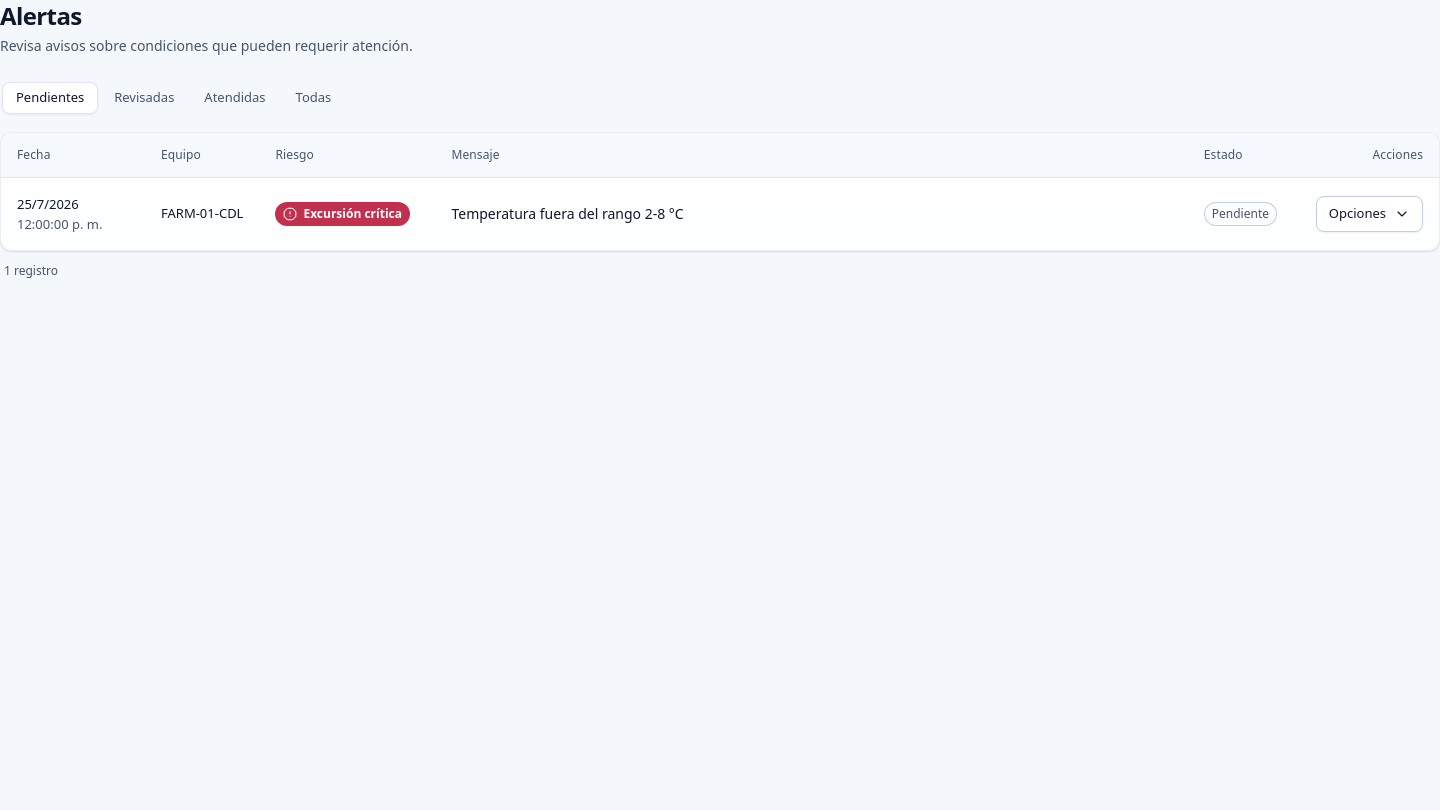
Test: AlertasPage (RF-09, RF-10, HU-20/21/23/27/41) › informa fallo al cargar cronología sin afirmar que no hay acciones
The width and height of the screenshot is (1440, 810).
Click the button "Opciones": (1369, 214) [1316,196,1423,232]
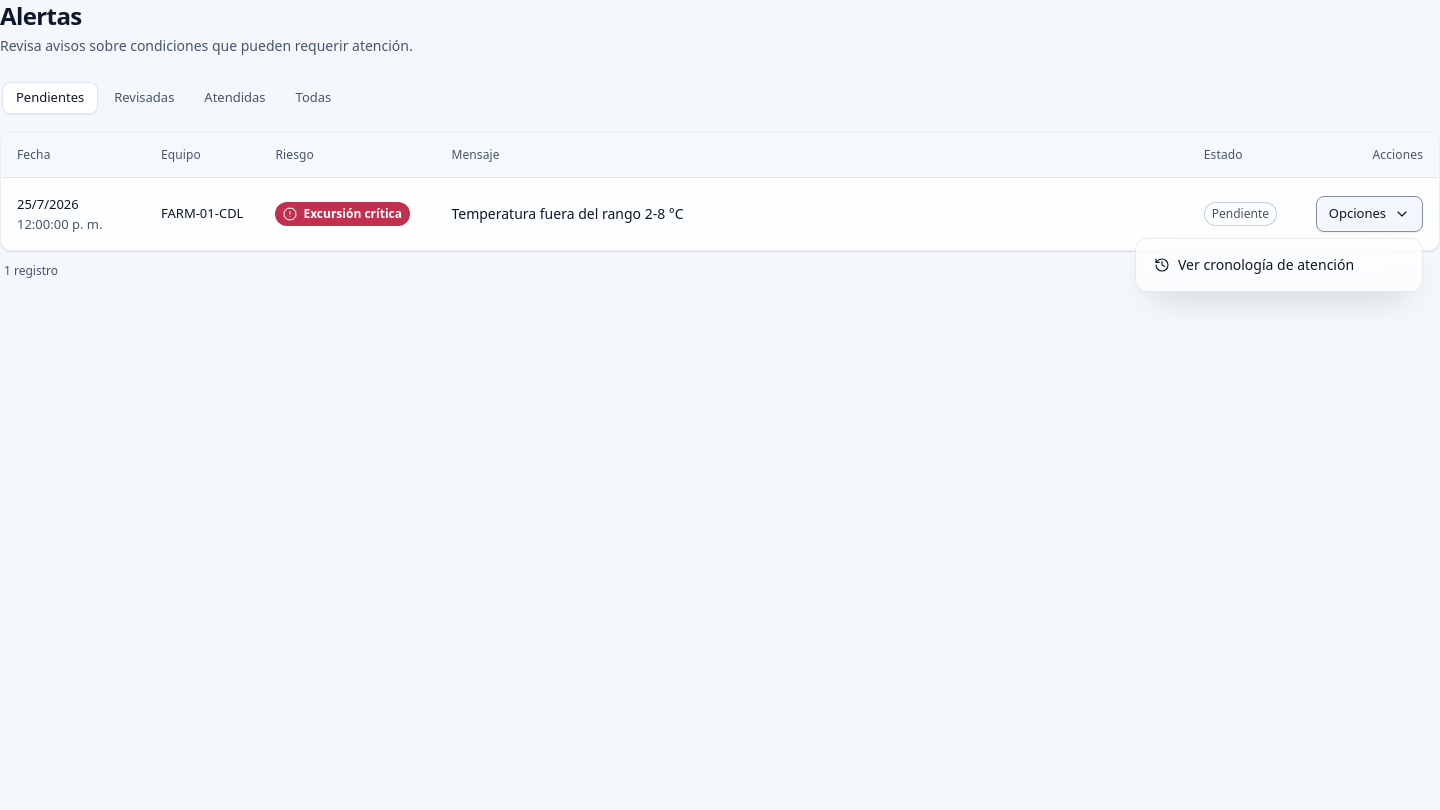
Click the menu item "Ver cronología de atención": (1279, 265) [1142,245,1416,285]
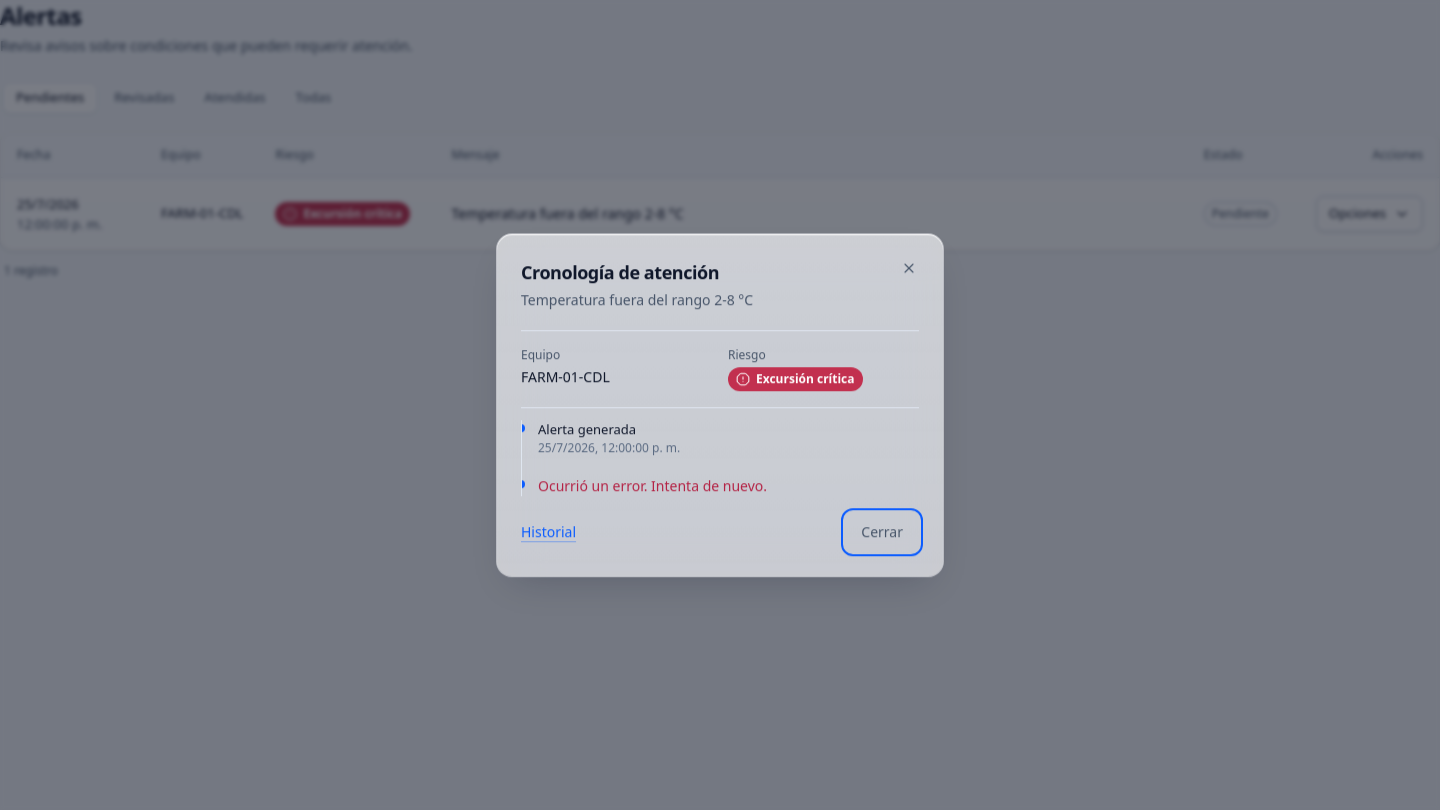
Result: the message "Ocurrió un error. Intenta de nuevo." is shown at [538,476,767,495]
